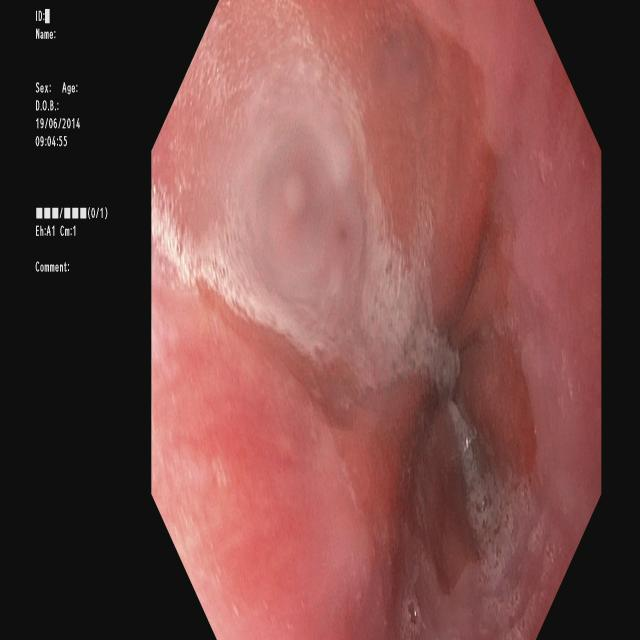Normal-Z-Line: (149, 0, 546, 605)
